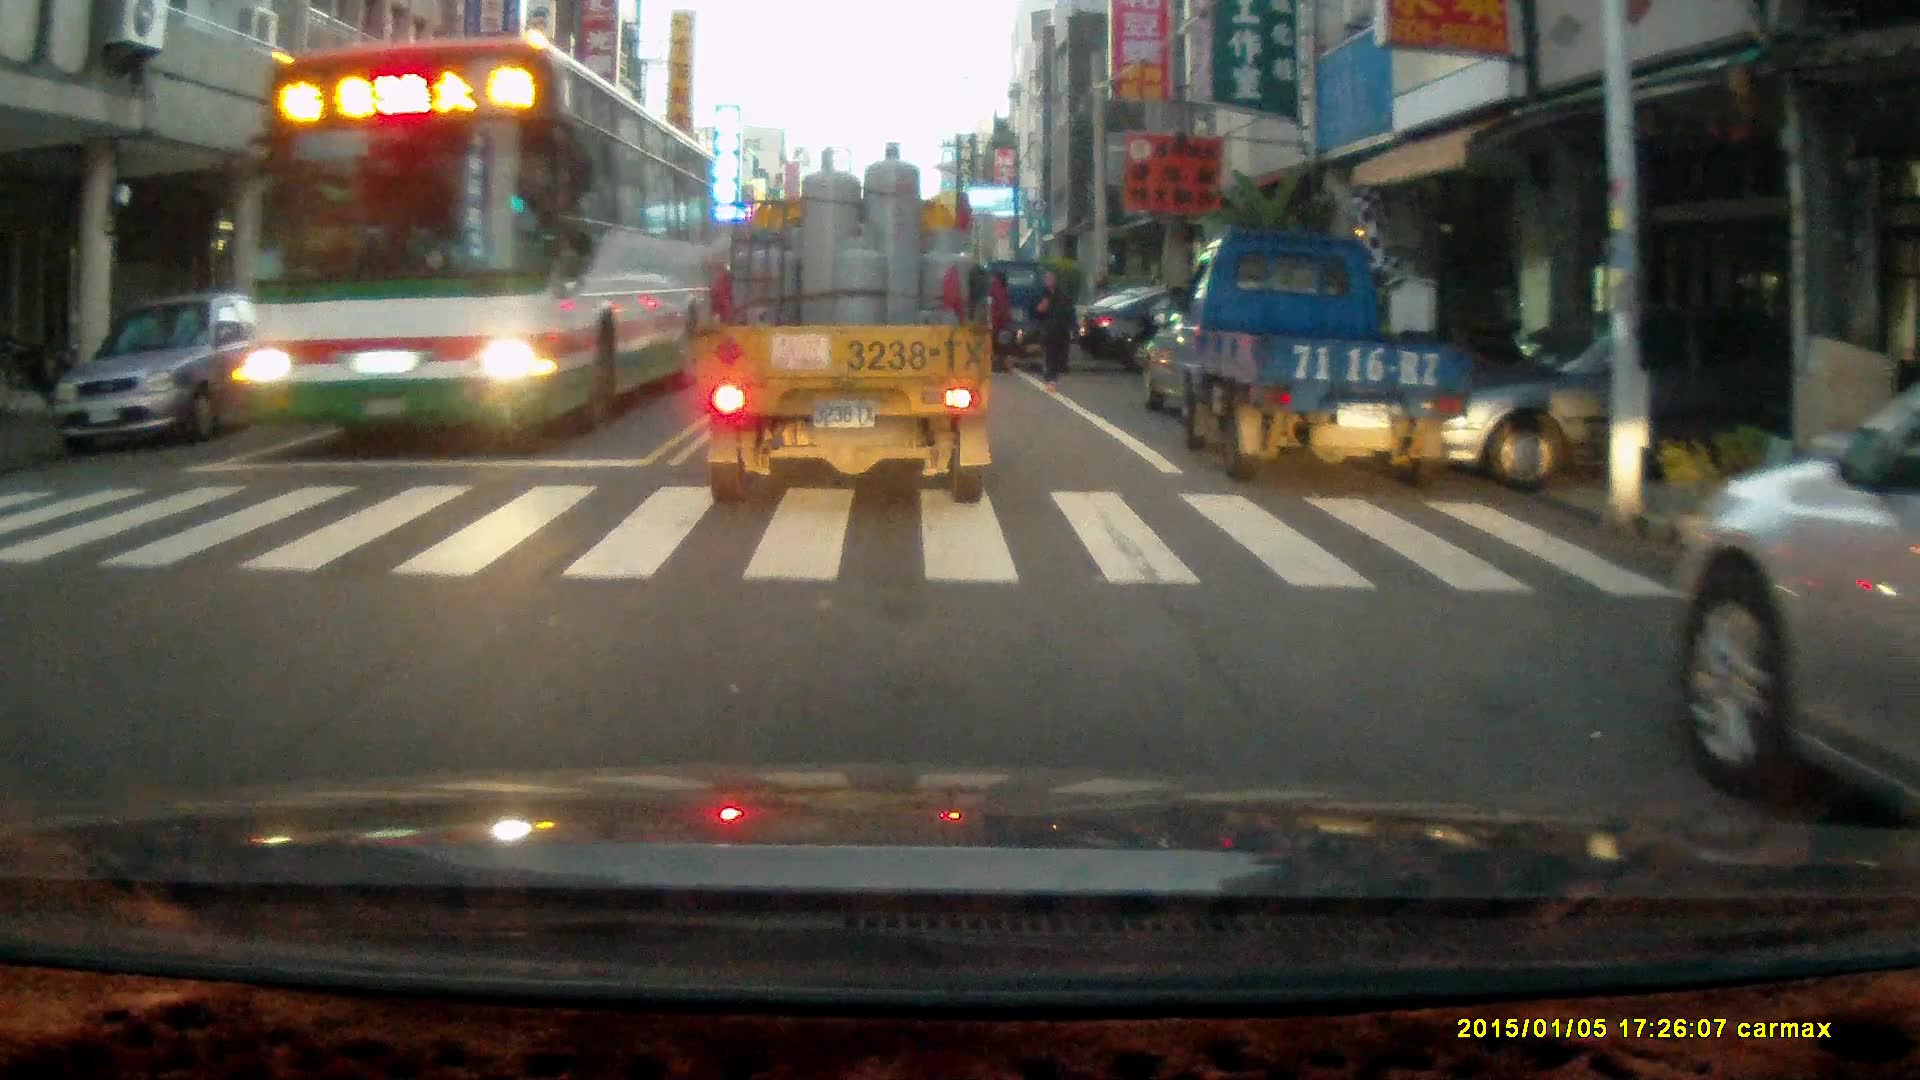pedestrian: (1026, 264, 1079, 383), (981, 263, 1013, 376)
vehicle: (232, 28, 724, 438), (1677, 373, 1920, 850), (693, 138, 998, 507), (1160, 227, 1475, 481), (1441, 340, 1801, 476), (53, 290, 288, 449), (329, 284, 513, 375), (976, 260, 1083, 376)
